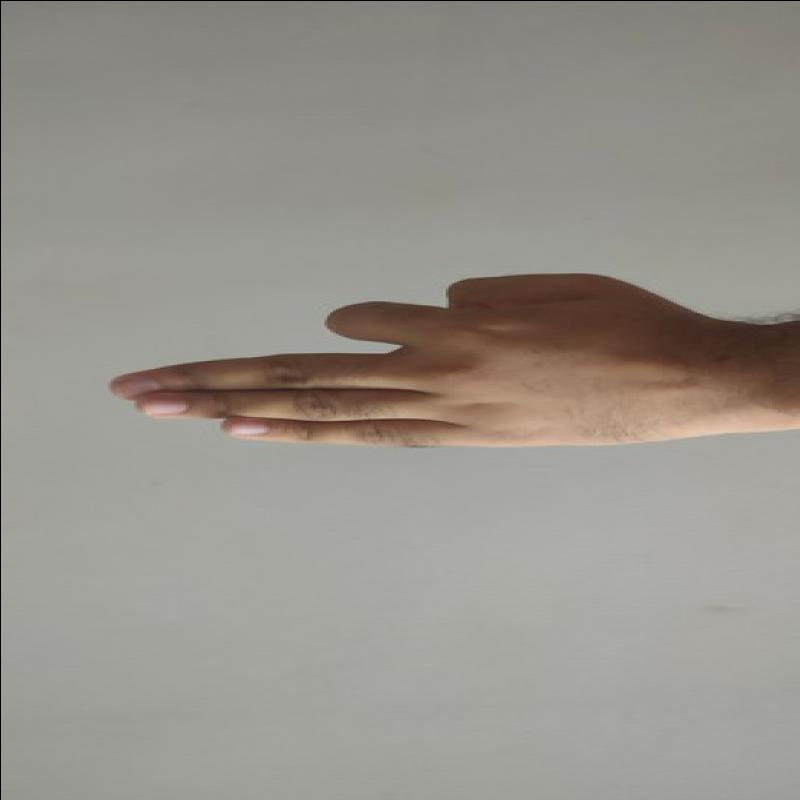Mudraakhyam: (87, 259, 738, 466)
